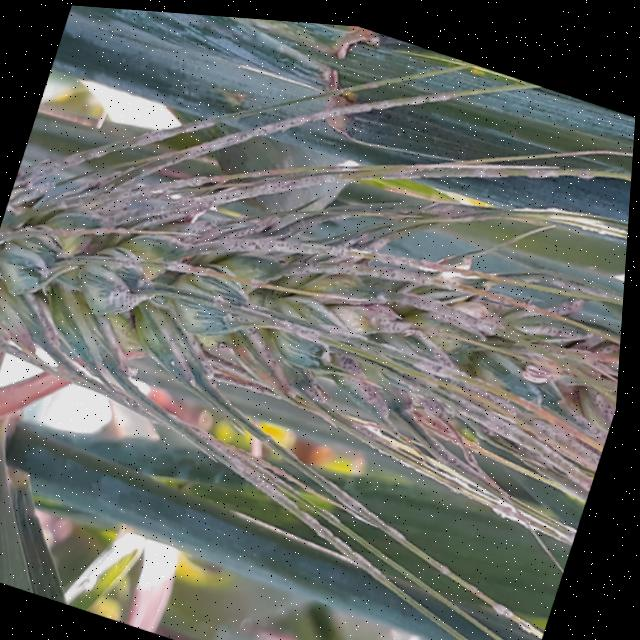powder_mildew: (0, 58, 637, 626), (36, 3, 368, 193)
